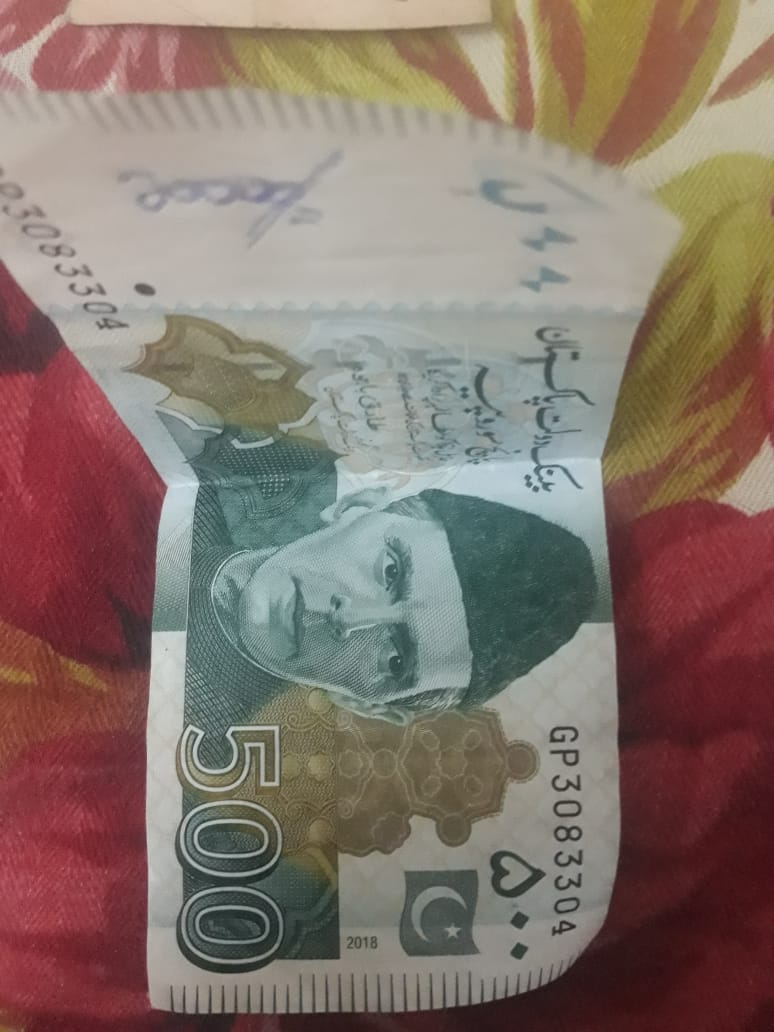500 rupee: (3, 86, 661, 1008)
